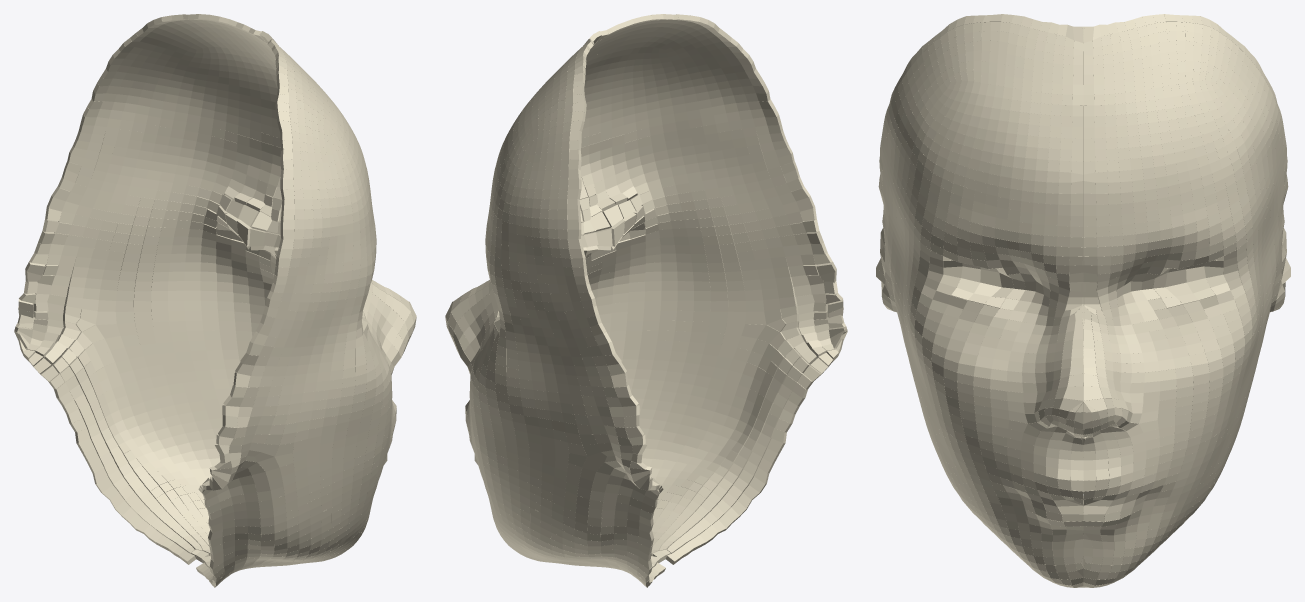
The model's file is Mascara.fbx.
The picture shows the model from 3 angles, left to right: view 1: azimuth 30°, elevation 25°; view 2: azimuth 150°, elevation 25°; view 3: azimuth 270°, elevation 25°; orthographic projection.
Parts seen in each view (by area): view 1: Mesh; view 2: Mesh; view 3: Mesh.
Boxes of the visible parts, bbox=[...] form: Mesh: bbox=[14, 14, 416, 587]; Mesh: bbox=[445, 14, 847, 587]; Mesh: bbox=[876, 14, 1290, 587].
Bounding box in the file's own units: 68.98 × 117 × 82.16.
